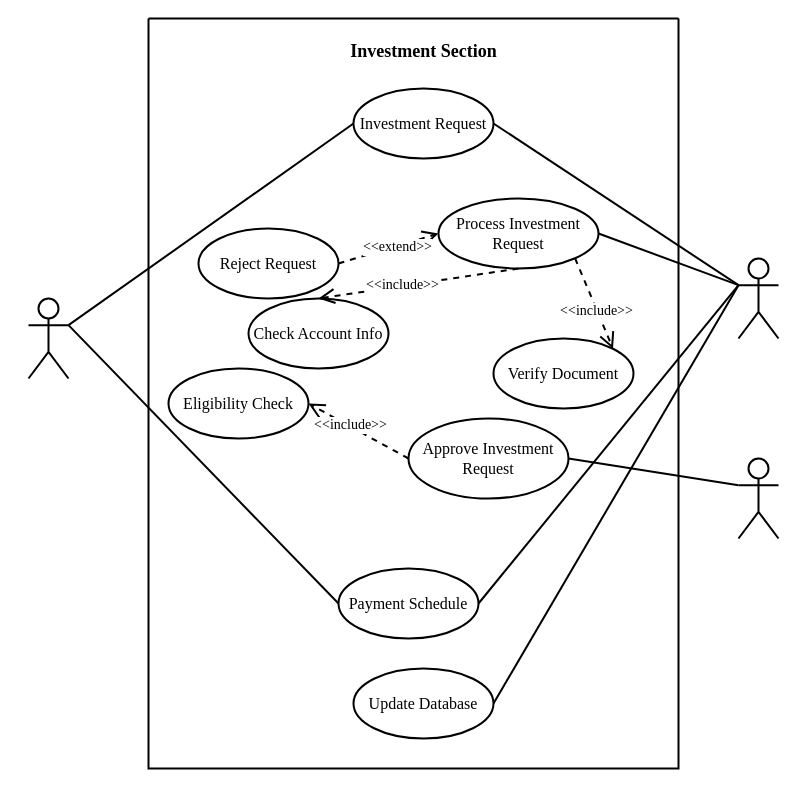
Image size: 804x786. Some labels were removed from this diagram. Each missing label, with the centre of its shape:
"Customer" goes at [48,338].
"Manager" goes at [758,498].
"Verifier" goes at [758,298].
